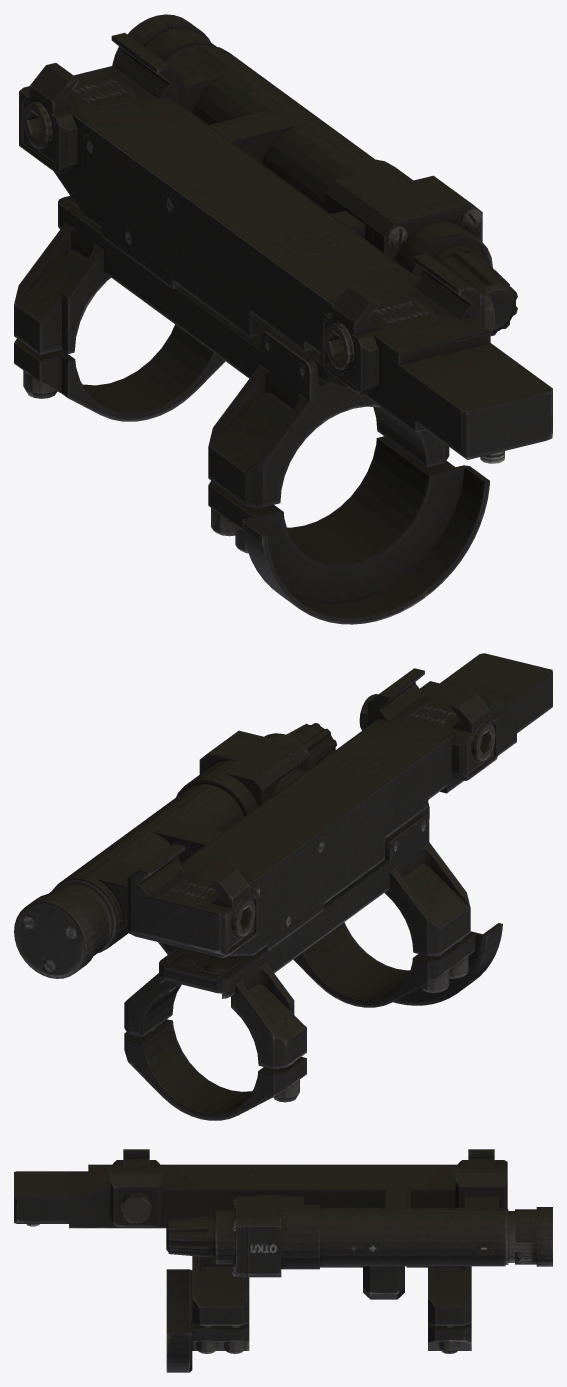
The picture shows the model from 3 angles, top to bottom: view 1: azimuth 30°, elevation 25°; view 2: azimuth 150°, elevation 25°; view 3: azimuth 270°, elevation 25°; orthographic projection. The views are drawn at different scales.
Parts seen in each view (by area): view 1: TW_5d0a29fed7ad1a002769ad08_PZ_Import; view 2: TW_5d0a29fed7ad1a002769ad08_PZ_Import; view 3: TW_5d0a29fed7ad1a002769ad08_PZ_Import.
Boxes of the visible parts, left/top/right/bottom form: TW_5d0a29fed7ad1a002769ad08_PZ_Import: left=14, top=14, right=552, bottom=624; TW_5d0a29fed7ad1a002769ad08_PZ_Import: left=14, top=653, right=552, bottom=1120; TW_5d0a29fed7ad1a002769ad08_PZ_Import: left=14, top=1149, right=552, bottom=1372.
Bounding box in the file's own units: 0.0382 × 0.1107 × 0.0466.
1 material, 1 textured.
